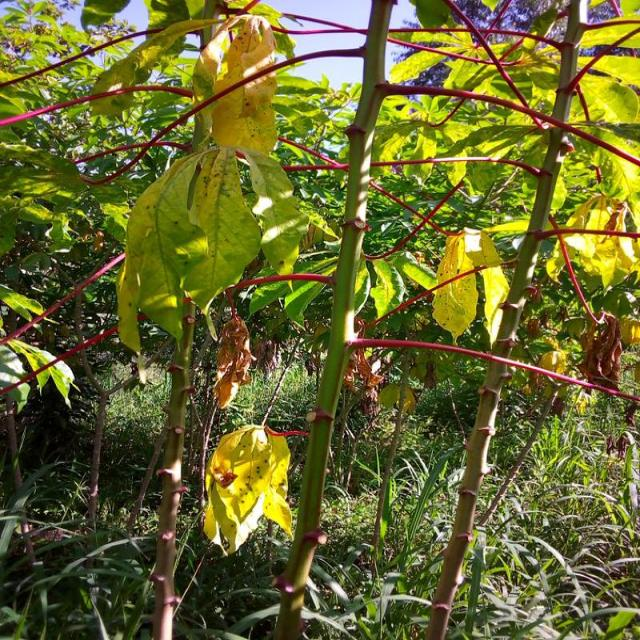cassava leaf: (115, 144, 262, 352), (202, 422, 292, 556), (431, 230, 478, 342)
